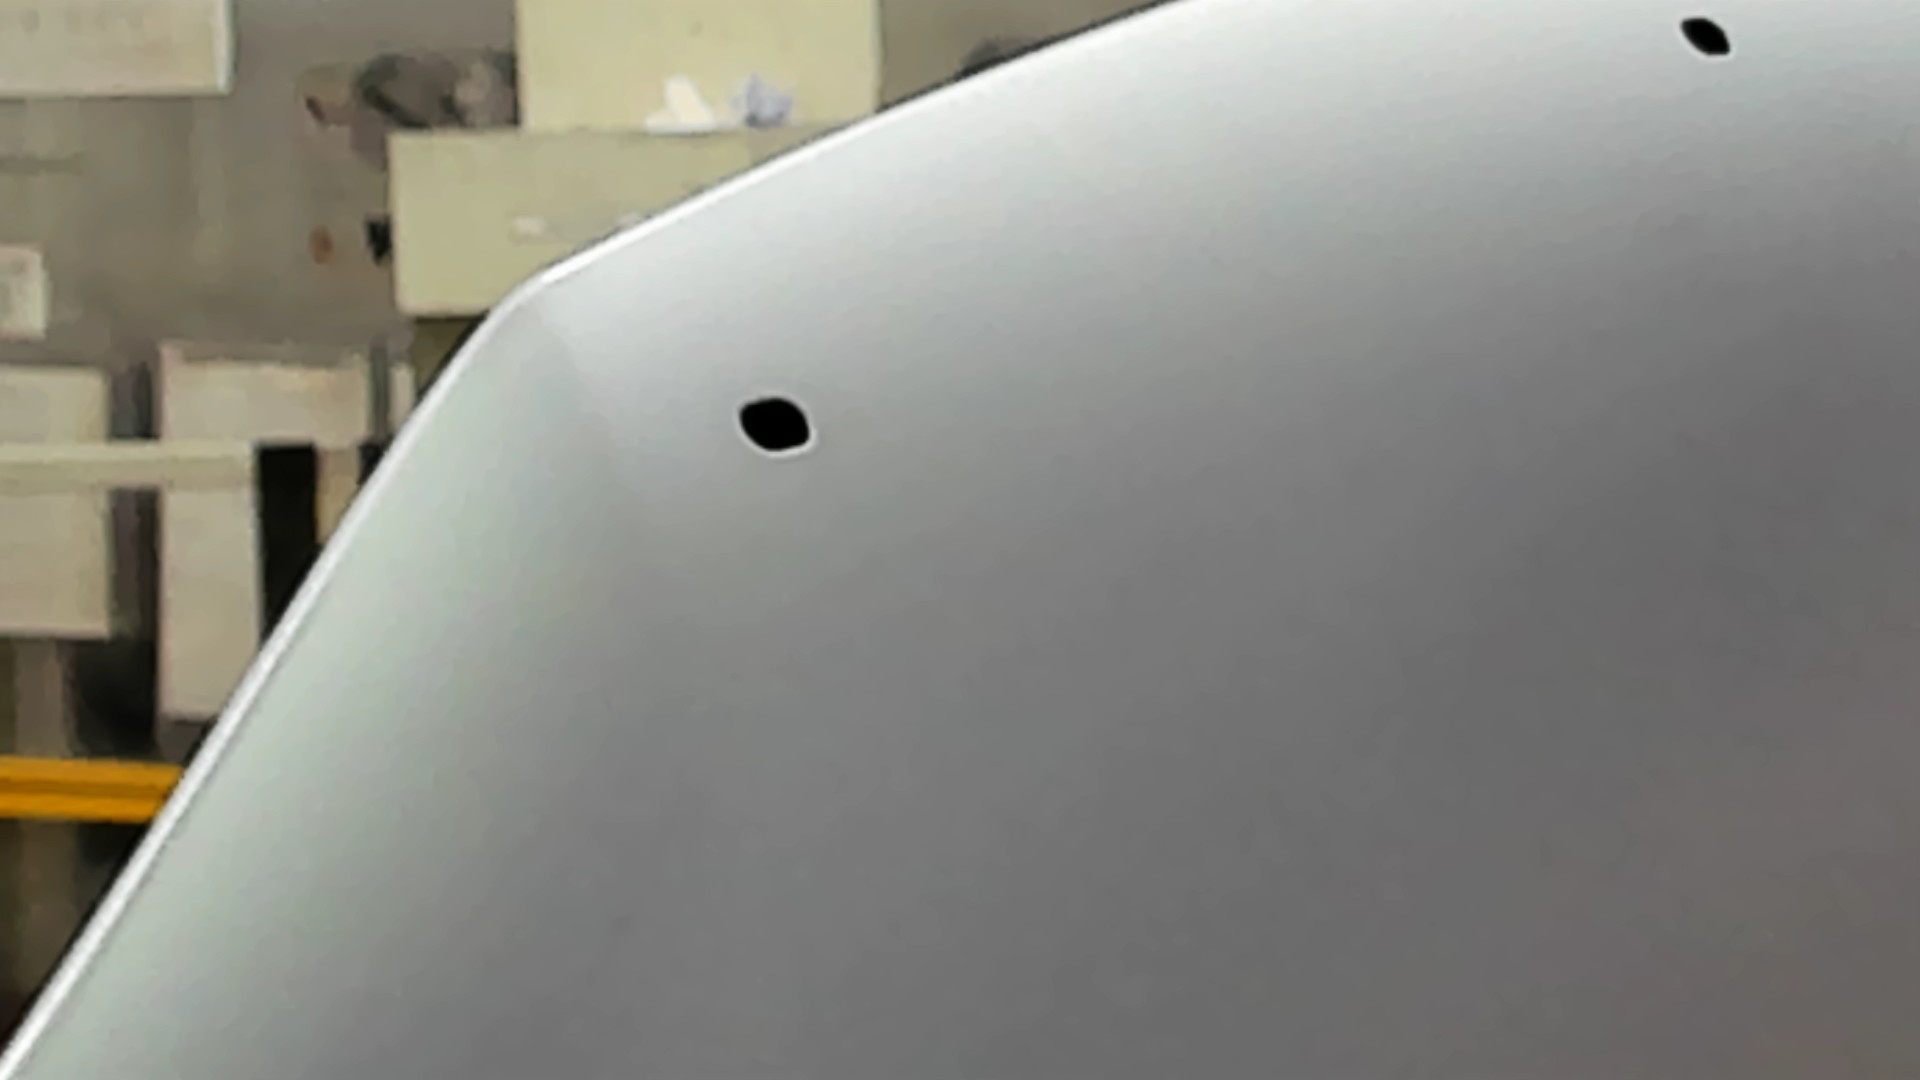amorfo: (735, 392, 815, 458), (1675, 13, 1741, 63)
